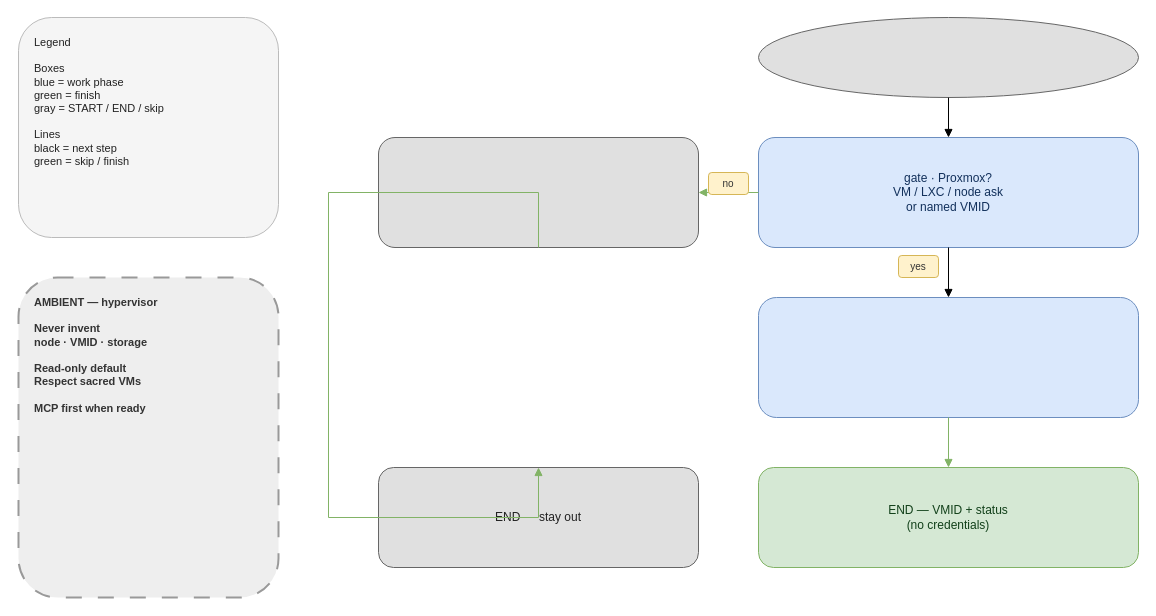
Image size: 1156x616. Some labels were removed from this diagram. The shapes that lost their labels are listed below. From the top down, each one's box as (x1, y1, x2, y2) in pixels, then its label:
(758, 16, 1138, 98): START — user ask
(378, 136, 698, 248): skip — no hypervisor ordinary coding
(758, 296, 1138, 418): inventory / gated ops status first; power/clone only with explicit verb
